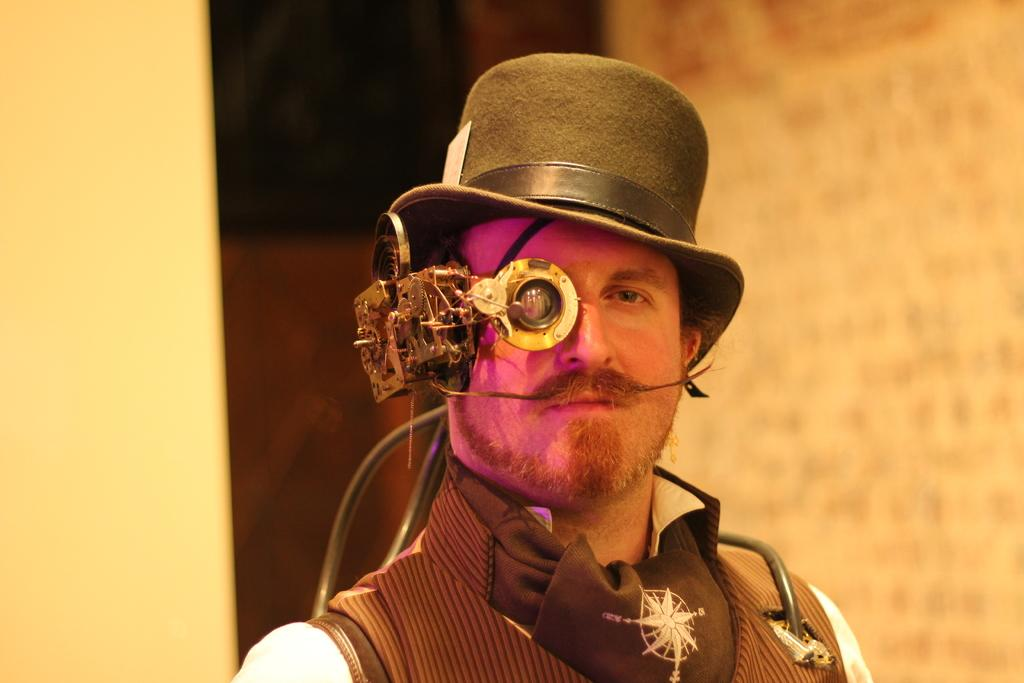Hat: (366, 41, 748, 384)
